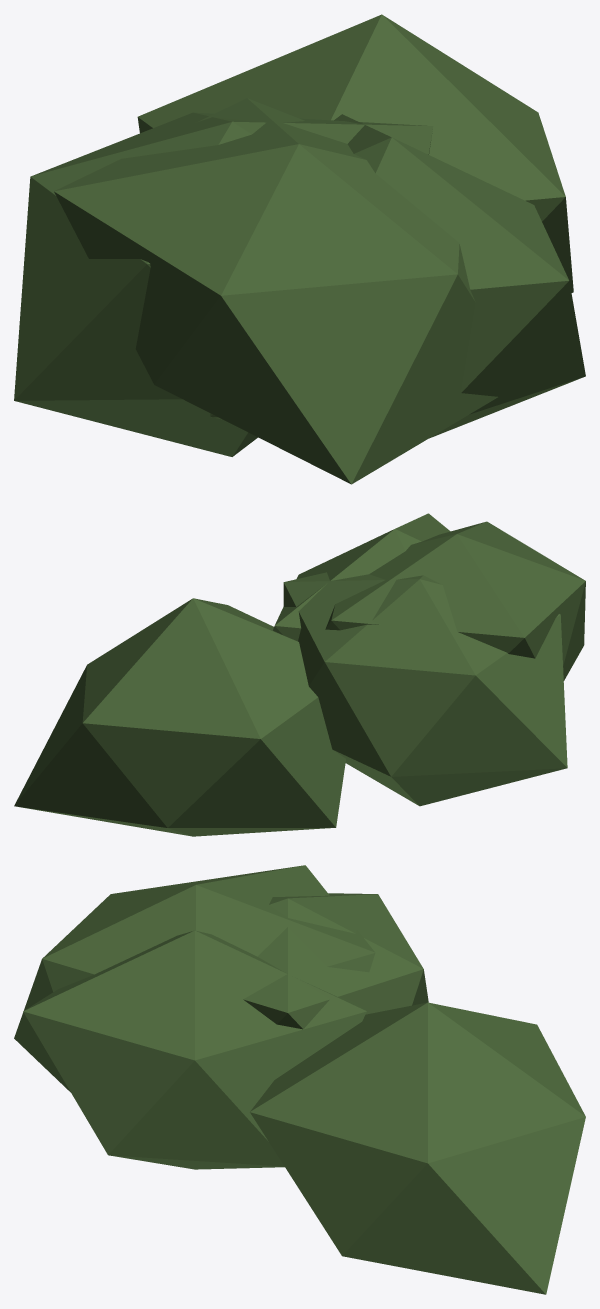
The model's file is bush_a.fbx.
3 renders of one model, top to bottom at view 1: azimuth 30°, elevation 25°; view 2: azimuth 150°, elevation 25°; view 3: azimuth 270°, elevation 25°, orthographic. The views are drawn at different scales.
Parts seen in each view (by area): view 1: bush_a; view 2: bush_a; view 3: bush_a.
Boxes of the visible parts, x1,y1,x2,y2 form: bush_a: (14, 14, 585, 484); bush_a: (14, 513, 585, 836); bush_a: (14, 865, 585, 1294).
Bounding box in the file's own units: 430 × 249 × 435.
